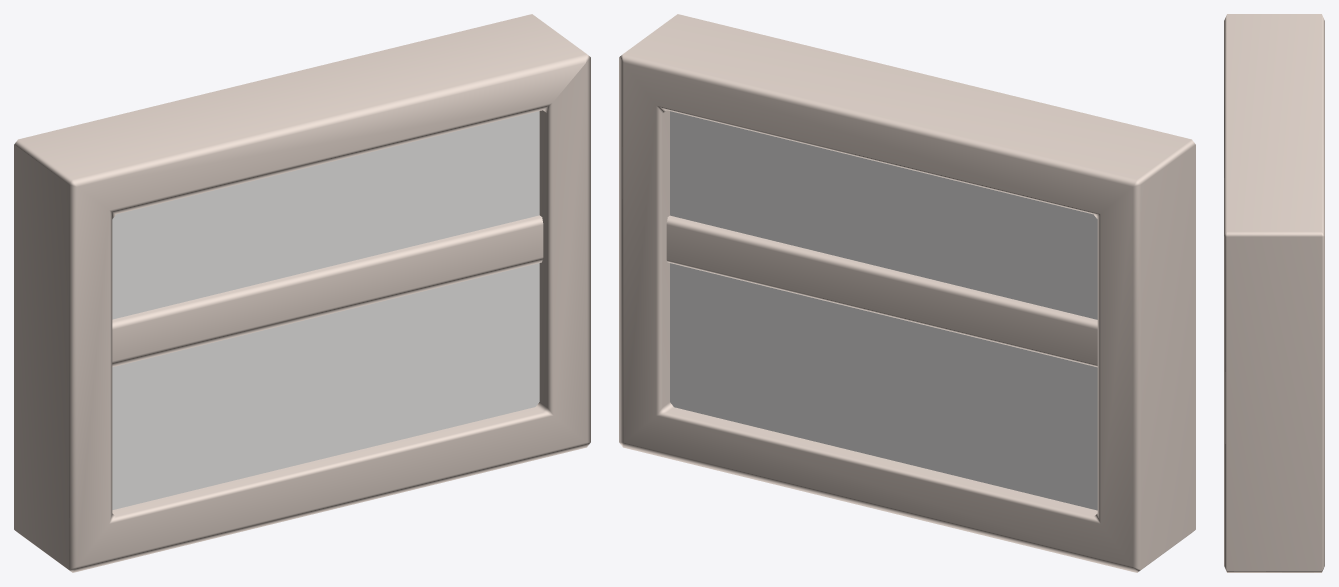
File: Window_3.glb
3 renders of one model, left to right at view 1: azimuth 30°, elevation 25°; view 2: azimuth 150°, elevation 25°; view 3: azimuth 270°, elevation 25°, orthographic. The views are drawn at different scales.
Visible parts, largest first — view 1: Window_6; view 2: Window_6; view 3: Window_6.
Boxes of the visible parts, <box> form: Window_6: <box>14,14,590,572</box>; Window_6: <box>619,14,1195,572</box>; Window_6: <box>1224,14,1324,572</box>.
Size of the model in its own units: 2.42 by 1.74 by 0.4673.
2 materials, 2 textured.
